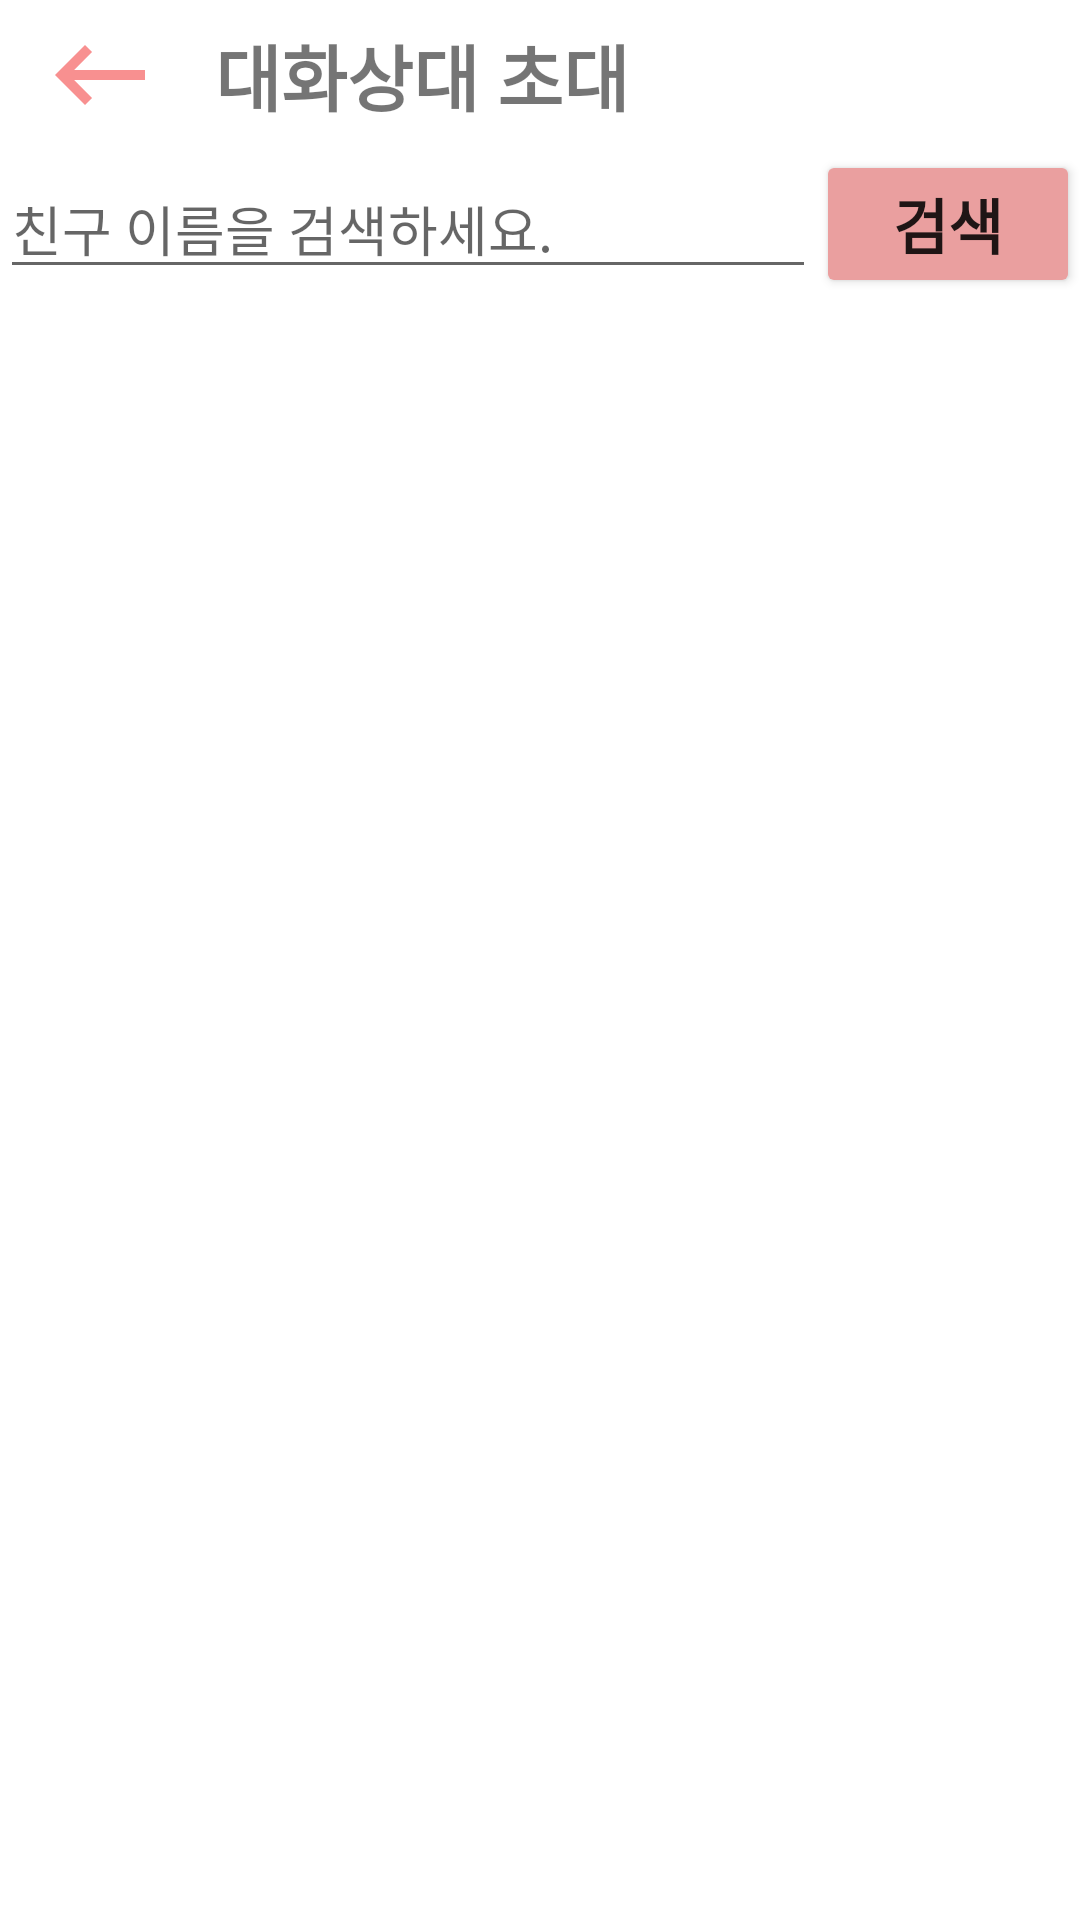

Icons on this 1080 × 1920 Android screen, each with its box as (x1, y1, x2, y2):
keyboard backspace: (55, 45, 145, 105)
